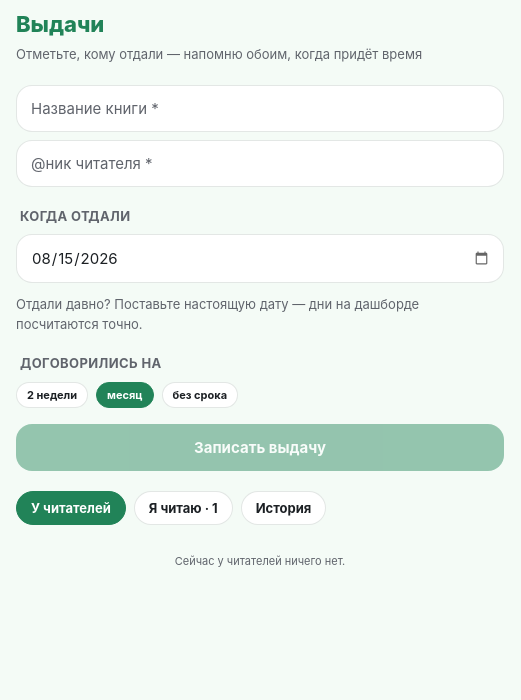
Test: A1: читатель не подтверждает возврат › во вкладке «Я читаю» нет кнопки возврата, только пояснение
Click the tab "Я читаю · 1". click: point(183, 508)
box: [134, 490, 233, 524]
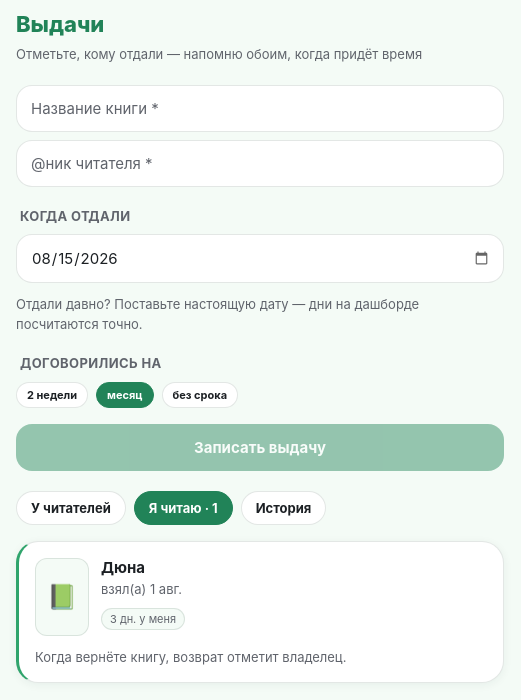
Now the text "Когда вернёте книгу, возврат отметит владелец." is shown, box [35, 648, 346, 664]
